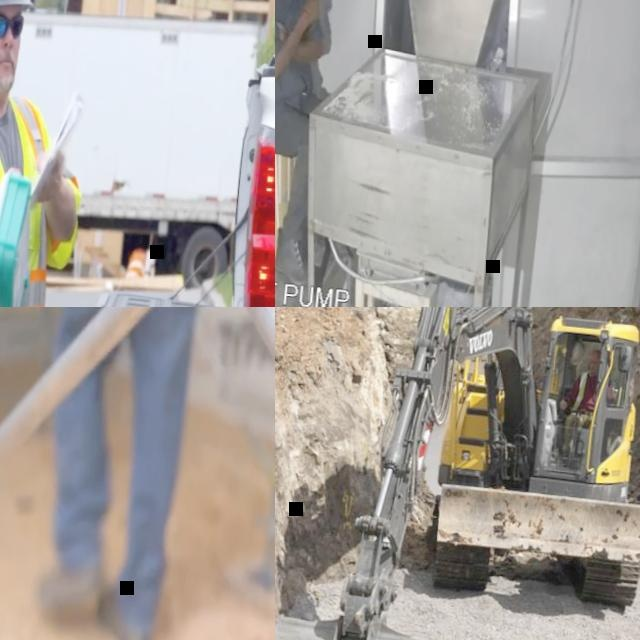NO-Hardhat: (589, 348, 601, 360)
NO-Mask: (0, 47, 20, 94), (589, 364, 599, 376)
NO-Safety Vest: (275, 0, 327, 101)
Person: (4, 307, 256, 640), (0, 0, 108, 307), (275, 0, 352, 281), (553, 345, 618, 463)
Safety Vest: (0, 76, 93, 307), (571, 370, 587, 413)
machinery: (275, 307, 640, 640)
vehicle: (54, 19, 275, 307)
